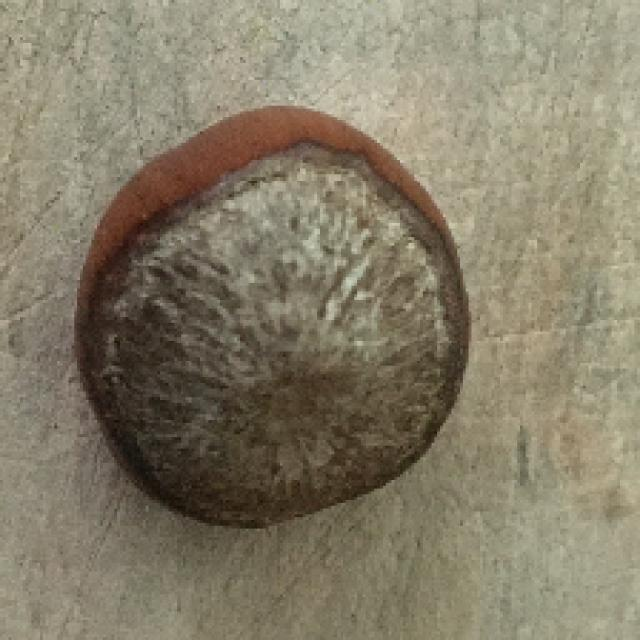QualityHazelnut: (68, 104, 474, 535)
